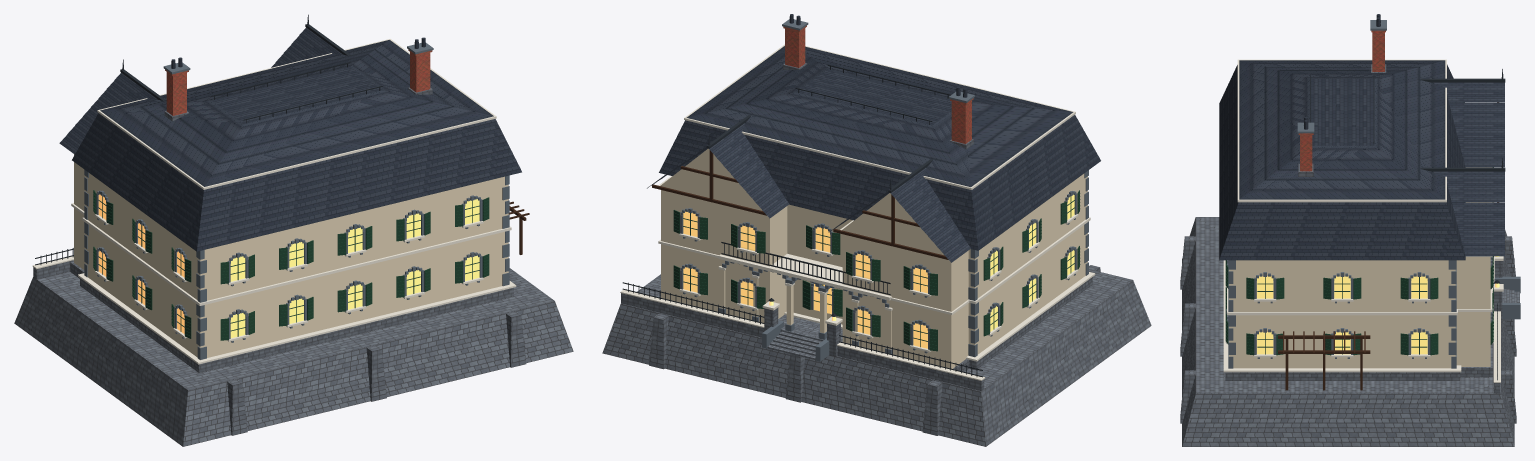
File: fv_pdtv_08_dinh_tien_hoang_09_pio_x_french_pavilion.glb
3 views of the same model, side by side, from view 1: azimuth 30°, elevation 25°; view 2: azimuth 150°, elevation 25°; view 3: azimuth 270°, elevation 25° (orthographic).
Parts seen in each view (by area): view 1: Normandy_Brittany_Layered_Roof, Foundation_Skirt_Neg3p5m, Villa_Stucco_Walls, Molded_Cornices_And_Sills, PineGreen_Louvered_Shutters, Stone_Quoins_And_Arches, Warm_Night_Windows_20h00_Blend, Brick_Chimney_Stacks, Wrought_Iron_Balustrades_And_Gate, Roof_Ridges_Caps_And_Finials; view 2: Normandy_Brittany_Layered_Roof, Foundation_Skirt_Neg3p5m, Villa_Stucco_Walls, Molded_Cornices_And_Sills, Stone_Quoins_And_Arches, PineGreen_Louvered_Shutters, Warm_Night_Windows_20h00_Blend, Wrought_Iron_Balustrades_And_Gate, Exposed_Timber_Trusses_And_Rafters, Brick_Chimney_Stacks, Roof_Ridges_Caps_And_Finials; view 3: Normandy_Brittany_Layered_Roof, Foundation_Skirt_Neg3p5m, Villa_Stucco_Walls, Molded_Cornices_And_Sills, Stone_Quoins_And_Arches, PineGreen_Louvered_Shutters, Warm_Night_Windows_20h00_Blend, Exposed_Timber_Trusses_And_Rafters, Brick_Chimney_Stacks, Roof_Ridges_Caps_And_Finials.
Boxes of the visible parts, <box> form: Normandy_Brittany_Layered_Roof: <box>59,27,521,251</box>; Foundation_Skirt_Neg3p5m: <box>14,87,573,446</box>; Villa_Stucco_Walls: <box>74,154,508,357</box>; Molded_Cornices_And_Sills: <box>32,39,516,364</box>; PineGreen_Louvered_Shutters: <box>93,190,489,340</box>; Stone_Quoins_And_Arches: <box>84,42,509,359</box>; Warm_Night_Windows_20h00_Blend: <box>98,194,479,338</box>; Brick_Chimney_Stacks: <box>165,49,432,115</box>; Wrought_Iron_Balustrades_And_Gate: <box>35,62,382,265</box>; Roof_Ridges_Caps_And_Finials: <box>120,14,350,100</box>; Normandy_Brittany_Layered_Roof: <box>648,14,1100,262</box>; Foundation_Skirt_Neg3p5m: <box>602,63,1151,446</box>; Villa_Stucco_Walls: <box>660,148,1087,368</box>; Molded_Cornices_And_Sills: <box>620,44,1095,380</box>; Stone_Quoins_And_Arches: <box>680,19,1088,361</box>; PineGreen_Louvered_Shutters: <box>673,190,1080,351</box>; Warm_Night_Windows_20h00_Blend: <box>683,194,1074,348</box>; Wrought_Iron_Balustrades_And_Gate: <box>622,65,982,377</box>; Exposed_Timber_Trusses_And_Rafters: <box>652,150,948,259</box>; Brick_Chimney_Stacks: <box>783,25,973,143</box>; Roof_Ridges_Caps_And_Finials: <box>647,115,932,232</box>; Normandy_Brittany_Layered_Roof: <box>1219,14,1504,260</box>; Foundation_Skirt_Neg3p5m: <box>1180,64,1519,446</box>; Villa_Stucco_Walls: <box>1229,202,1490,368</box>; Molded_Cornices_And_Sills: <box>1223,59,1503,382</box>; Stone_Quoins_And_Arches: <box>1226,20,1520,368</box>; PineGreen_Louvered_Shutters: <box>1225,167,1493,355</box>; Warm_Night_Windows_20h00_Blend: <box>1257,256,1499,354</box>; Exposed_Timber_Trusses_And_Rafters: <box>1278,102,1498,390</box>; Brick_Chimney_Stacks: <box>1298,30,1385,171</box>; Roof_Ridges_Caps_And_Finials: <box>1420,69,1505,171</box>.
Size of the model in its own units: 29.93 by 21 by 22.53.
Materials: 12 (3 with a texture image).
